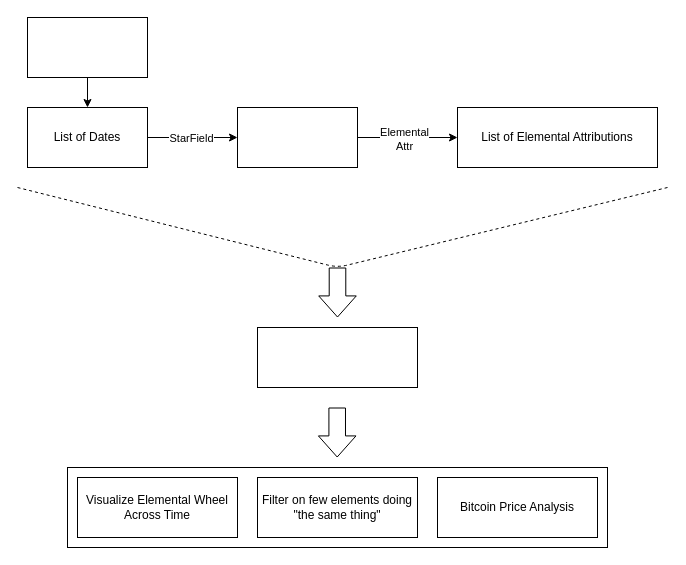
Some shapes in this 686 by 565 pixel diagram are drawn without their labels. The centre of each missing label's shape, as x and y in pixels:
DataFrame: the point at 87,47
Enriched DataFrame: the point at 337,357
List of Angles: the point at 297,137
